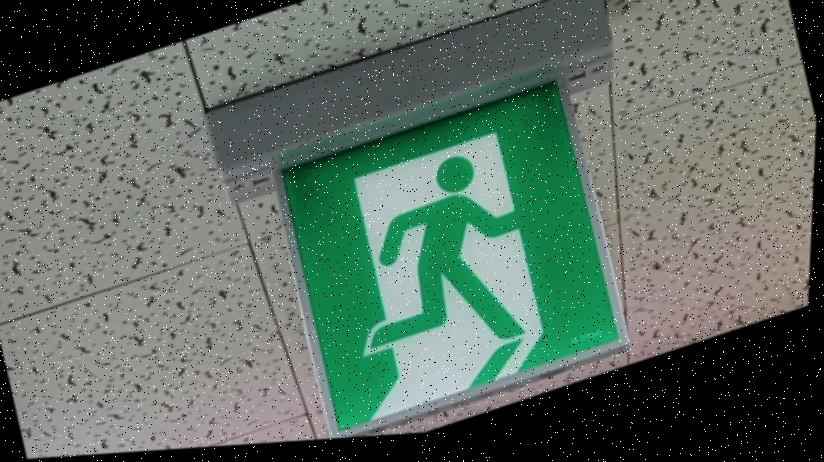emergency_exit: (275, 78, 631, 436)
